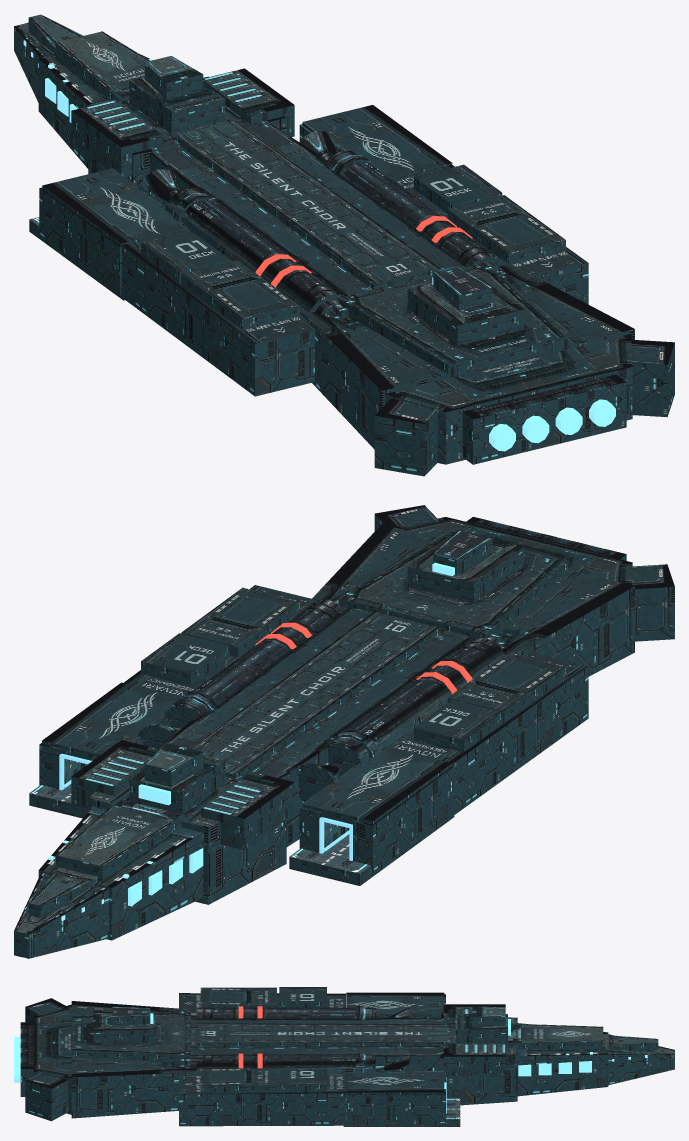
Rendered from choirship.glb.
The picture shows the model from 3 angles, top to bottom: view 1: azimuth 30°, elevation 25°; view 2: azimuth 150°, elevation 25°; view 3: azimuth 270°, elevation 25°; orthographic projection. The views are drawn at different scales.
Visible parts, largest first — view 1: Choir_SpineFrame, Choir_SternMain, Choir_Sponson_Port, Choir_Hull_Main, Choir_SternCap, Choir_SternDeck, Choir_SternEngineBlock, Choir_BayRoof_Port, Choir_Nacelle_Port, Choir_BayRoof_Stbd, Choir_SponsonStep_Port, Choir_SponsonStep_Stbd (+20 smaller); view 2: Choir_SpineFrame, Choir_SternMain, Choir_Hull_Main, Choir_Sponson_Port, Choir_SternDeck, Choir_ProwBody, Choir_Nacelle_Port, Choir_BayRoof_Port, Choir_BridgeBase, Choir_ProwPlate, Choir_BayRoof_Stbd, Choir_BayWallOut_Port (+24 smaller); view 3: Choir_SternMain, Choir_Sponson_Stbd, Choir_SpineFrame, Choir_Hull_Main, Choir_SternDeck, Choir_ProwBody, Choir_BayWallOut_Stbd, Choir_SternCap, Choir_BridgeBase, Choir_Nacelle_Stbd, Choir_BayRoof_Stbd, Choir_ProwPlate (+20 smaller).
Part boxes in pixels (x1=…): Choir_SpineFrame: x1=175, y1=121, x2=440, y2=289; Choir_SternMain: x1=299, y1=256, x2=634, y2=449; Choir_Sponson_Port: x1=122, y1=229, x2=314, y2=396; Choir_Hull_Main: x1=149, y1=123, x2=501, y2=318; Choir_SternCap: x1=378, y1=334, x2=632, y2=464; Choir_SternDeck: x1=338, y1=262, x2=568, y2=378; Choir_SternEngineBlock: x1=462, y1=374, x2=626, y2=464; Choir_BayRoof_Port: x1=42, y1=168, x2=188, y2=255; Choir_Nacelle_Port: x1=164, y1=189, x2=341, y2=312; Choir_BayRoof_Stbd: x1=302, y1=105, x2=452, y2=179; Choir_SponsonStep_Port: x1=181, y1=260, x2=299, y2=330; Choir_SponsonStep_Stbd: x1=447, y1=195, x2=565, y2=264; Choir_SpineFrame: x1=190, y1=611, x2=440, y2=778; Choir_SternMain: x1=294, y1=524, x2=634, y2=676; Choir_Hull_Main: x1=158, y1=595, x2=501, y2=846; Choir_Sponson_Port: x1=387, y1=651, x2=588, y2=814; Choir_SternDeck: x1=338, y1=531, x2=568, y2=638; Choir_ProwBody: x1=38, y1=806, x2=203, y2=940; Choir_Nacelle_Port: x1=327, y1=638, x2=504, y2=776; Choir_BayRoof_Port: x1=302, y1=747, x2=452, y2=824; Choir_BridgeBase: x1=88, y1=776, x2=286, y2=904; Choir_ProwPlate: x1=55, y1=799, x2=185, y2=881; Choir_BayRoof_Stbd: x1=42, y1=682, x2=180, y2=760; Choir_BayWallOut_Port: x1=353, y1=766, x2=453, y2=874; Choir_SternMain: x1=71, y1=1001, x2=200, y2=1118; Choir_Sponson_Stbd: x1=179, y1=1073, x2=345, y2=1126; Choir_SpineFrame: x1=197, y1=1023, x2=447, y2=1046; Choir_Hull_Main: x1=179, y1=1015, x2=441, y2=1097; Choir_SternDeck: x1=71, y1=1011, x2=190, y2=1062; Choir_ProwBody: x1=517, y1=1023, x2=608, y2=1096; Choir_BayWallOut_Stbd: x1=346, y1=1089, x2=445, y2=1125; Choir_SternCap: x1=33, y1=1004, x2=76, y2=1116; Choir_BridgeBase: x1=441, y1=1012, x2=517, y2=1105; Choir_Nacelle_Stbd: x1=197, y1=1055, x2=375, y2=1085; Choir_BayRoof_Stbd: x1=346, y1=1071, x2=444, y2=1094; Choir_ProwPlate: x1=513, y1=1023, x2=603, y2=1050.
Size of the model in its own units: 10 by 3.83 by 27.72.
8 materials, 3 textured.
